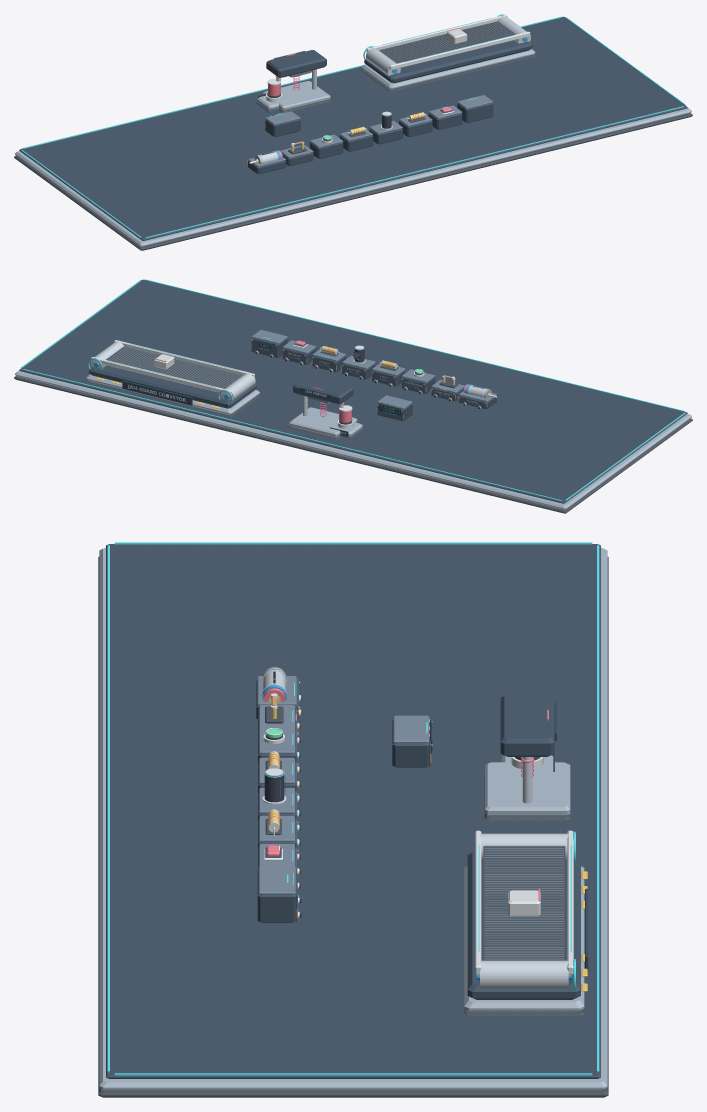
File: Level33_Complete_ArtKit_Showcase.fbx
The picture shows the model from 3 angles, top to bottom: view 1: azimuth 30°, elevation 25°; view 2: azimuth 150°, elevation 25°; view 3: azimuth 270°, elevation 25°; orthographic projection. The views are drawn at different scales.
Visible parts, largest first — view 1: Model::00_Optional_Showcase_Board__L33_SHOWCASE_AnodizedBlac, Model::00_Optional_Showcase_Board__L33_SHOWCASE_ChromeRim, Model::00_Optional_Showcase_Board__L33_SHOWCASE_RubberSubstr, Model::09_JamGuard_Industrial_Conveyor__L33_CONVEYOR_DarkMac, Model::09_JamGuard_Industrial_Conveyor__L33_CONVEYOR_SoftMat, Model::00_Optional_Showcase_Board__L33_SHOWCASE_HorizontalNe (×2), Model::09_JamGuard_Industrial_Conveyor__L33_CONVEYOR_SteelSi (×2), Model::09_JamGuard_Industrial_Conveyor__L33_CONVEYOR_Aluminu, Model::10_Overhead_Jam_Sensor__L33_SENSOR_CompactTopBeam, Model::10_Overhead_Jam_Sensor__L33_SENSOR_MachinedBase, Model::01_5V_Supply__L33_SUPPLY_Chassis, Model::09_JamGuard_Industrial_Conveyor__L33_CONVEYOR_Stainle (+5 smaller); view 2: Model::00_Optional_Showcase_Board__L33_SHOWCASE_AnodizedBlac, Model::00_Optional_Showcase_Board__L33_SHOWCASE_ChromeRim, Model::00_Optional_Showcase_Board__L33_SHOWCASE_RubberSubstr, Model::00_Optional_Showcase_Board__L33_SHOWCASE_HorizontalNe (×2), Model::09_JamGuard_Industrial_Conveyor__L33_CONVEYOR_SoftMat, Model::09_JamGuard_Industrial_Conveyor__L33_CONVEYOR_DarkMac, Model::09_JamGuard_Industrial_Conveyor__L33_CONVEYOR_SteelSi (×2), Model::10_Overhead_Jam_Sensor__L33_SENSOR_MachinedBase, Model::10_Overhead_Jam_Sensor__L33_SENSOR_CompactTopBeam, Model::09_JamGuard_Industrial_Conveyor__L33_CONVEYOR_Aluminu, Model::09_JamGuard_Industrial_Conveyor__L33_CONVEYOR_FrontIn, Model::09_JamGuard_Industrial_Conveyor__L33_CONVEYOR_Stainle (+1 smaller); view 3: Model::00_Optional_Showcase_Board__L33_SHOWCASE_AnodizedBlac, Model::00_Optional_Showcase_Board__L33_SHOWCASE_ChromeRim, Model::09_JamGuard_Industrial_Conveyor__L33_CONVEYOR_SoftMat, Model::00_Optional_Showcase_Board__L33_SHOWCASE_RubberSubstr, Model::10_Overhead_Jam_Sensor__L33_SENSOR_MachinedBase, Model::09_JamGuard_Industrial_Conveyor__L33_CONVEYOR_DarkMac, Model::09_JamGuard_Industrial_Conveyor__L33_CONVEYOR_Stainle (×2), Model::10_Overhead_Jam_Sensor__L33_SENSOR_CompactTopBeam, Model::00_Optional_Showcase_Board__L33_SHOWCASE_HorizontalNe (×2), Model::09_JamGuard_Industrial_Conveyor__L33_CONVEYOR_Aluminu, Model::09_JamGuard_Industrial_Conveyor__L33_CONVEYOR_SteelSi (×2), Model::00_Optional_Showcase_Board__L33_SHOWCASE_SideNeon_-13 (+7 smaller).
Boxes of the visible parts, <box> form: Model::00_Optional_Showcase_Board__L33_SHOWCASE_AnodizedBlac: <box>19,16,687,240</box>; Model::00_Optional_Showcase_Board__L33_SHOWCASE_ChromeRim: <box>15,108,691,246</box>; Model::00_Optional_Showcase_Board__L33_SHOWCASE_RubberSubstr: <box>14,113,692,250</box>; Model::09_JamGuard_Industrial_Conveyor__L33_CONVEYOR_DarkMac: <box>364,40,532,83</box>; Model::09_JamGuard_Industrial_Conveyor__L33_CONVEYOR_SoftMat: <box>379,21,514,63</box>; Model::00_Optional_Showcase_Board__L33_SHOWCASE_HorizontalNe (×2): <box>22,16,683,238</box>; Model::09_JamGuard_Industrial_Conveyor__L33_CONVEYOR_SteelSi (×2): <box>366,14,530,69</box>; Model::09_JamGuard_Industrial_Conveyor__L33_CONVEYOR_Aluminu: <box>361,49,535,89</box>; Model::10_Overhead_Jam_Sensor__L33_SENSOR_CompactTopBeam: <box>266,50,326,77</box>; Model::10_Overhead_Jam_Sensor__L33_SENSOR_MachinedBase: <box>262,81,330,110</box>; Model::01_5V_Supply__L33_SUPPLY_Chassis: <box>457,102,493,122</box>; Model::09_JamGuard_Industrial_Conveyor__L33_CONVEYOR_Stainle: <box>366,48,400,76</box>; Model::00_Optional_Showcase_Board__L33_SHOWCASE_AnodizedBlac: <box>19,279,687,503</box>; Model::00_Optional_Showcase_Board__L33_SHOWCASE_ChromeRim: <box>15,370,691,509</box>; Model::00_Optional_Showcase_Board__L33_SHOWCASE_RubberSubstr: <box>14,376,692,513</box>; Model::00_Optional_Showcase_Board__L33_SHOWCASE_HorizontalNe (×2): <box>22,279,683,501</box>; Model::09_JamGuard_Industrial_Conveyor__L33_CONVEYOR_SoftMat: <box>107,346,241,388</box>; Model::09_JamGuard_Industrial_Conveyor__L33_CONVEYOR_DarkMac: <box>89,365,256,408</box>; Model::09_JamGuard_Industrial_Conveyor__L33_CONVEYOR_SteelSi (×2): <box>91,340,254,395</box>; Model::10_Overhead_Jam_Sensor__L33_SENSOR_MachinedBase: <box>289,407,357,436</box>; Model::10_Overhead_Jam_Sensor__L33_SENSOR_CompactTopBeam: <box>293,376,353,404</box>; Model::09_JamGuard_Industrial_Conveyor__L33_CONVEYOR_Aluminu: <box>86,374,259,414</box>; Model::09_JamGuard_Industrial_Conveyor__L33_CONVEYOR_FrontIn: <box>122,380,192,405</box>; Model::09_JamGuard_Industrial_Conveyor__L33_CONVEYOR_Stainle: <box>220,373,255,400</box>; Model::00_Optional_Showcase_Board__L33_SHOWCASE_AnodizedBlac: <box>106,544,600,1078</box>; Model::00_Optional_Showcase_Board__L33_SHOWCASE_ChromeRim: <box>99,547,607,1090</box>; Model::09_JamGuard_Industrial_Conveyor__L33_CONVEYOR_SoftMat: <box>483,846,565,960</box>; Model::00_Optional_Showcase_Board__L33_SHOWCASE_RubberSubstr: <box>98,557,608,1097</box>; Model::10_Overhead_Jam_Sensor__L33_SENSOR_MachinedBase: <box>485,762,570,816</box>; Model::09_JamGuard_Industrial_Conveyor__L33_CONVEYOR_DarkMac: <box>467,852,580,999</box>; Model::09_JamGuard_Industrial_Conveyor__L33_CONVEYOR_Stainle (×2): <box>480,833,568,988</box>; Model::10_Overhead_Jam_Sensor__L33_SENSOR_CompactTopBeam: <box>500,694,554,756</box>; Model::00_Optional_Showcase_Board__L33_SHOWCASE_HorizontalNe (×2): <box>107,545,599,1072</box>; Model::09_JamGuard_Industrial_Conveyor__L33_CONVEYOR_Aluminu: <box>464,866,584,1012</box>; Model::09_JamGuard_Industrial_Conveyor__L33_CONVEYOR_SteelSi (×2): <box>475,830,573,974</box>; Model::00_Optional_Showcase_Board__L33_SHOWCASE_SideNeon_-13: <box>114,542,592,544</box>.
Size of the model in its own units: 27.4 by 2.41 by 10.96.
